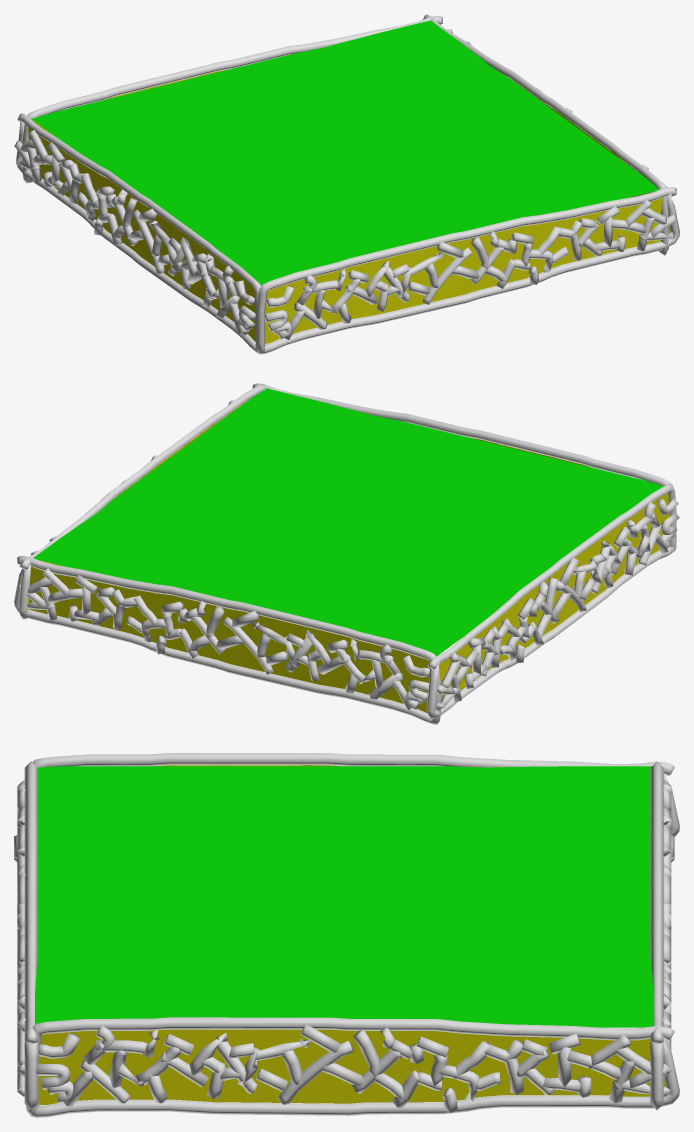
File: platform1.fbx
3 views of the same model, one above another, from view 1: azimuth 30°, elevation 25°; view 2: azimuth 150°, elevation 25°; view 3: azimuth 270°, elevation 25° (orthographic). The views are drawn at different scales.
Parts seen in each view (by area): view 1: GP_Layer.013; view 2: GP_Layer.013; view 3: GP_Layer.013.
Part boxes in pixels (x1=…): GP_Layer.013: x1=14, y1=14, x2=679, y2=354; GP_Layer.013: x1=14, y1=383, x2=679, y2=724; GP_Layer.013: x1=14, y1=753, x2=679, y2=1117.
Bounding box in the file's own units: 618 × 103 × 618.
